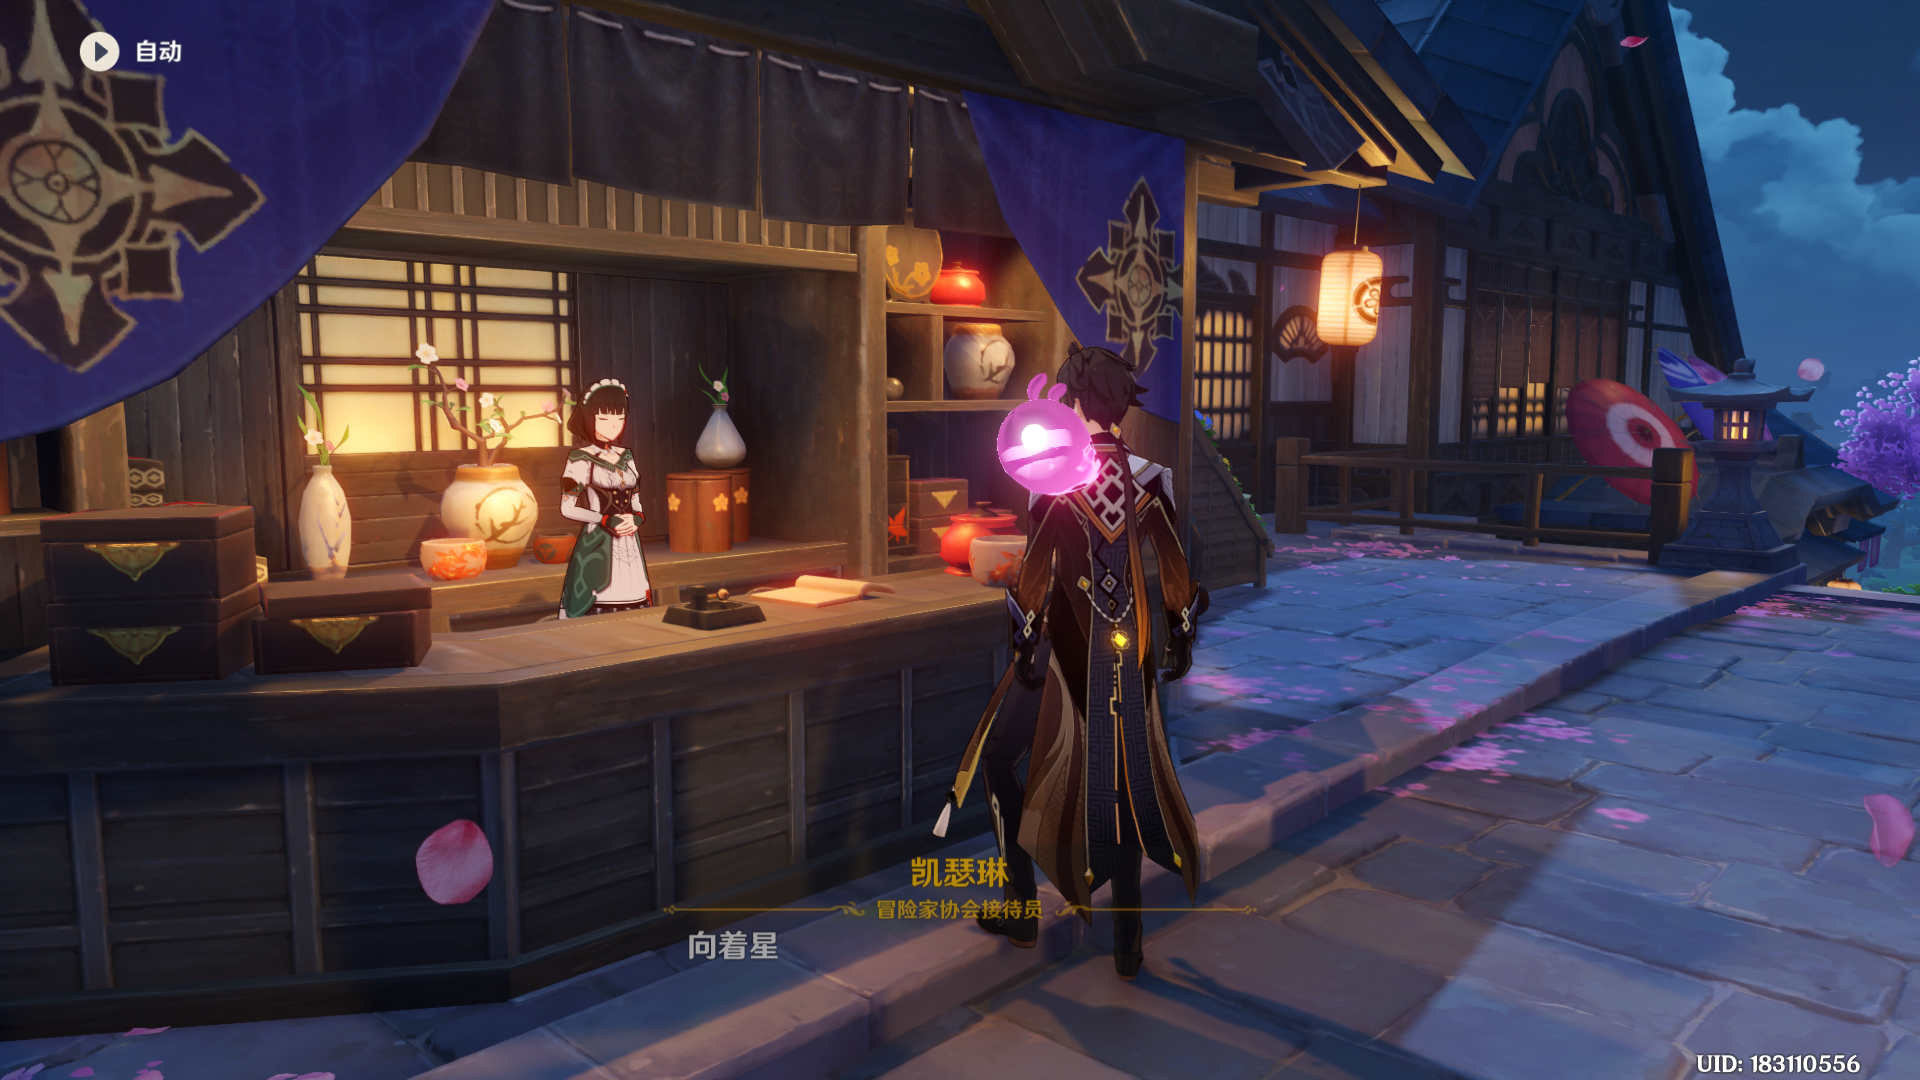character: (928, 345, 1273, 1021), (534, 360, 705, 670)
